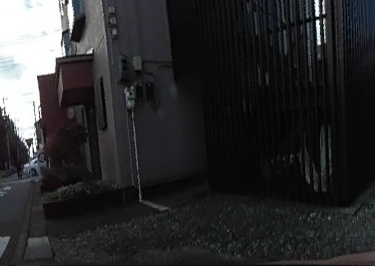person: (15, 155, 24, 177)
